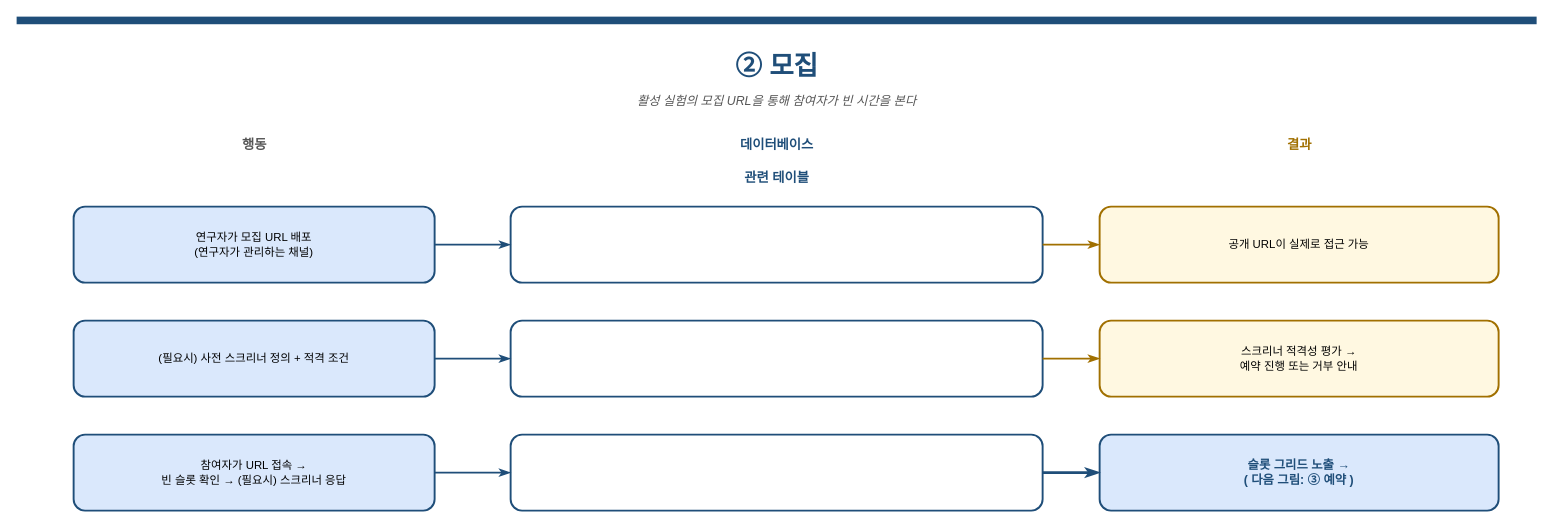
This 1552x527 diagram has some shape labels left out. The shapes that lost their labels are listed below. From the top down, each one's box as (x1, y1, x2, y2) in pixels, then its label:
(509, 205, 1043, 283): experiments 공개 상태 · 모집 기간 · 정원
(509, 319, 1043, 397): 스크리너 정의 + 참여자 응답
(509, 433, 1043, 511): 공유 캘린더 빈 시간 캐시 + 수동 차단 슬롯
